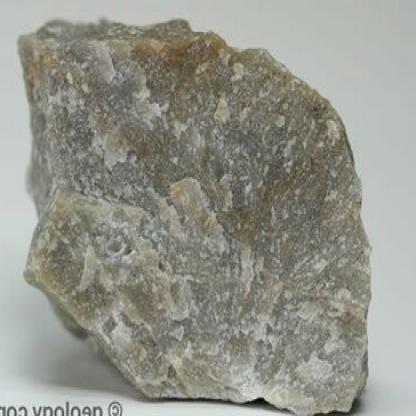Metamorphic_Quartize: (10, 11, 374, 414)
